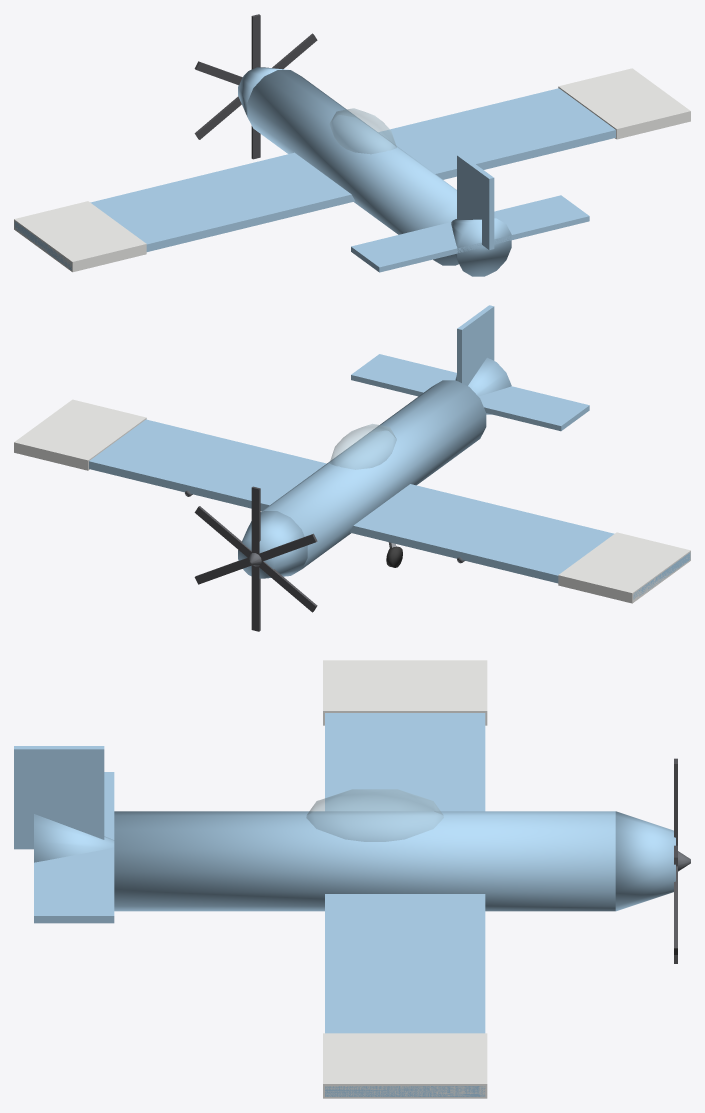
The model's file is wingman.gltf.
3 renders of one model, top to bottom at view 1: azimuth 30°, elevation 25°; view 2: azimuth 150°, elevation 25°; view 3: azimuth 270°, elevation 25°, orthographic. The views are drawn at different scales.
Parts seen in each view (by area): view 1: wingman; view 2: wingman; view 3: wingman.
Part boxes in pixels (left/top/right/bottom): wingman: left=14, top=14, right=690, bottom=276; wingman: left=14, top=305, right=690, bottom=631; wingman: left=14, top=660, right=690, bottom=1098.
Size of the model in its own units: 5 by 1.18 by 3.38.
